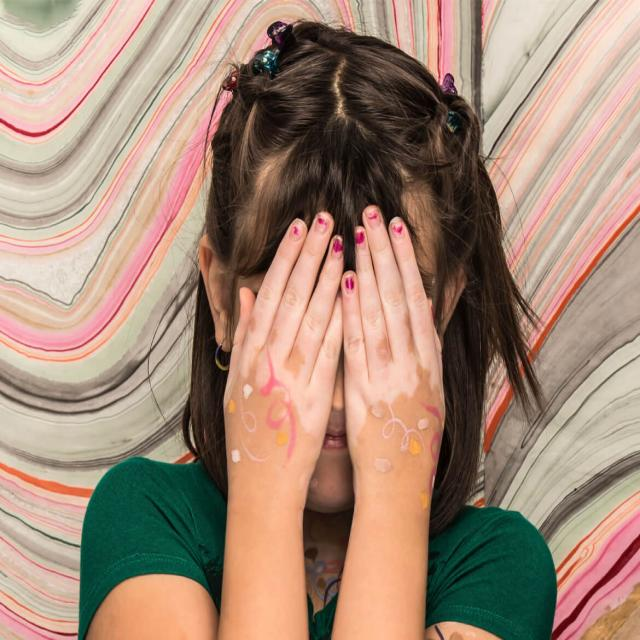vitiligo: (231, 230, 329, 479), (346, 258, 446, 484)
